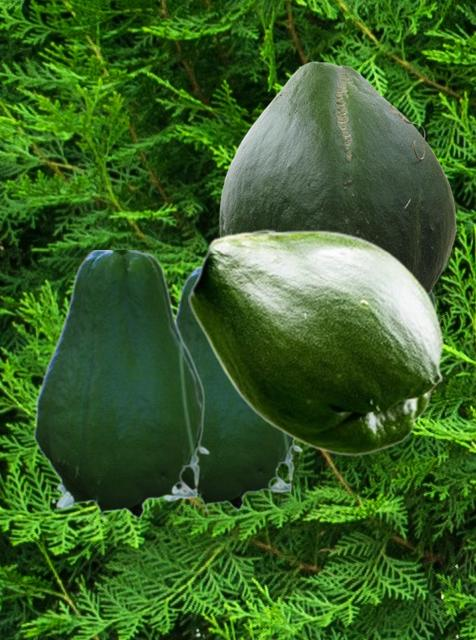sayote: (188, 229, 443, 455), (219, 61, 455, 293), (33, 250, 209, 523), (163, 267, 302, 514)
